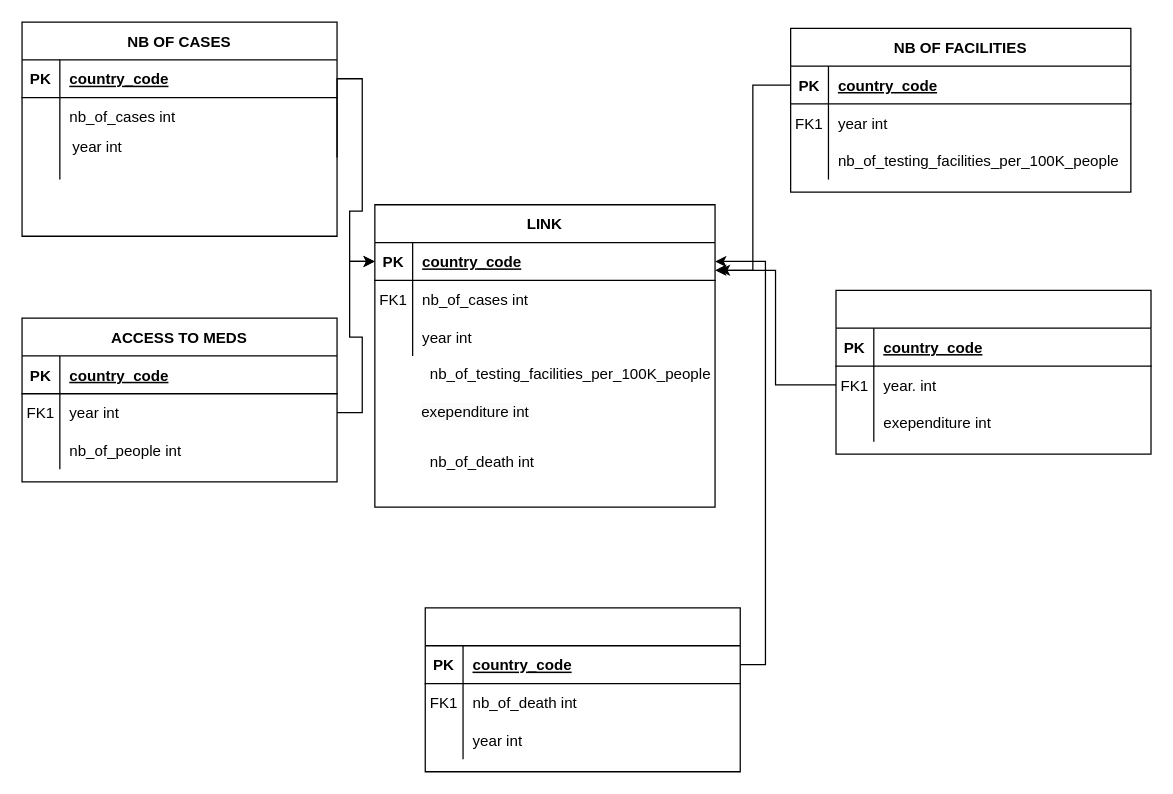
The diagram is 1173 pixels wide and 794 high, and some of its shapes have lost their labels. The shapes that lost their labels are listed below. From the top down, each one's box as (x1, y1, x2, y2) in pixels, then its label:
(835, 289, 1151, 454): EXP-HIV
(424, 607, 740, 772): MORTALITY
